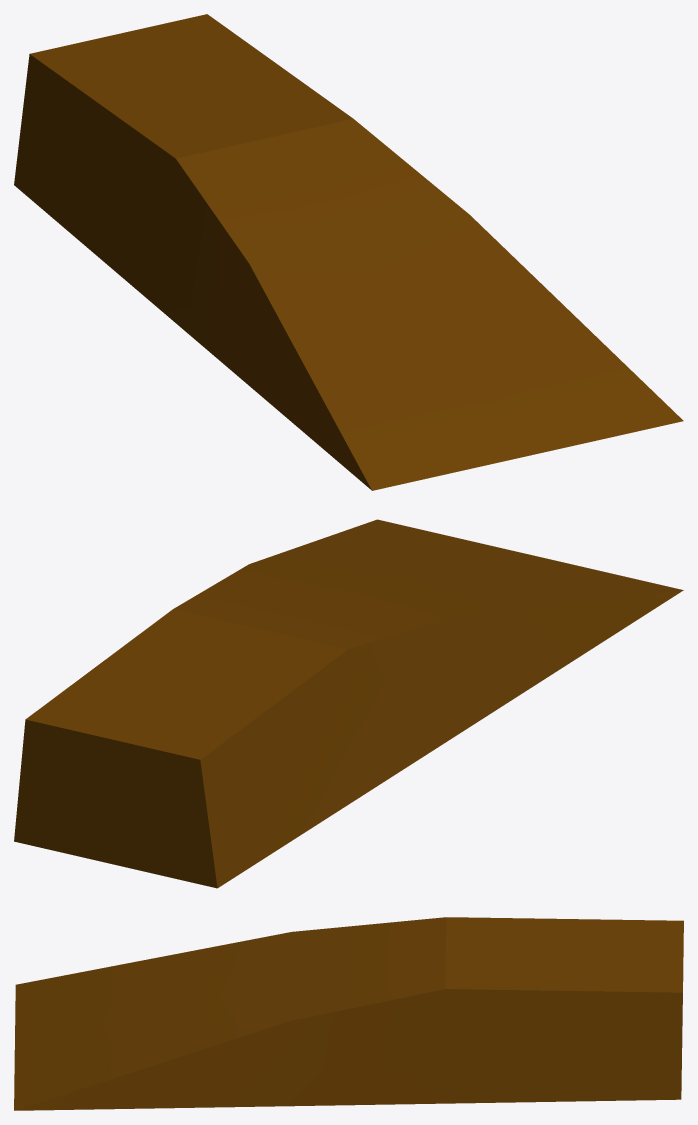
3 views of the same model, one above another, from view 1: azimuth 30°, elevation 25°; view 2: azimuth 150°, elevation 25°; view 3: azimuth 270°, elevation 25° (orthographic). The views are drawn at different scales.
Visible parts, largest first — view 1: 左44; view 2: 左44; view 3: 左44.
Part boxes in pixels (x1,y1,x2,y2): 左44: (14,14,683,490); 左44: (14,519,683,888); 左44: (14,917,683,1110).
Size of the model in its own units: 15.65 by 6.44 by 36.34.
